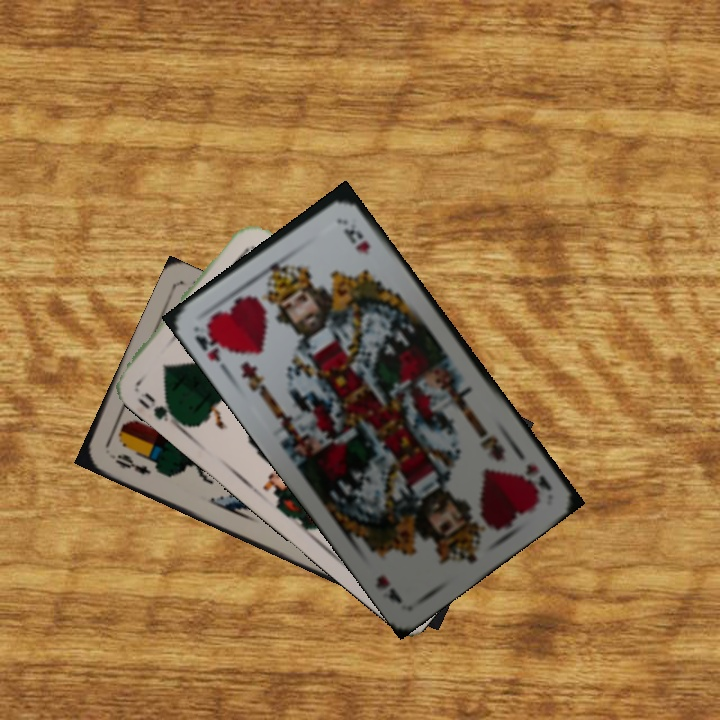EO: (105, 450, 154, 478)
GO: (132, 388, 184, 430)
HK: (191, 320, 231, 373), (515, 445, 555, 496)
